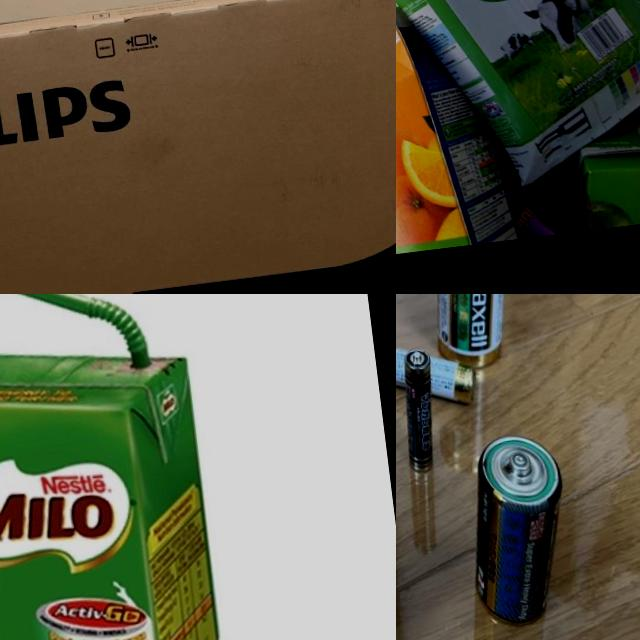bateria: (449, 427, 584, 637), (422, 294, 527, 368), (396, 332, 481, 416), (396, 346, 444, 478)
caixinha: (0, 326, 251, 640), (396, 0, 640, 204), (396, 0, 518, 260), (571, 123, 640, 231)
papelão: (0, 0, 396, 294)
